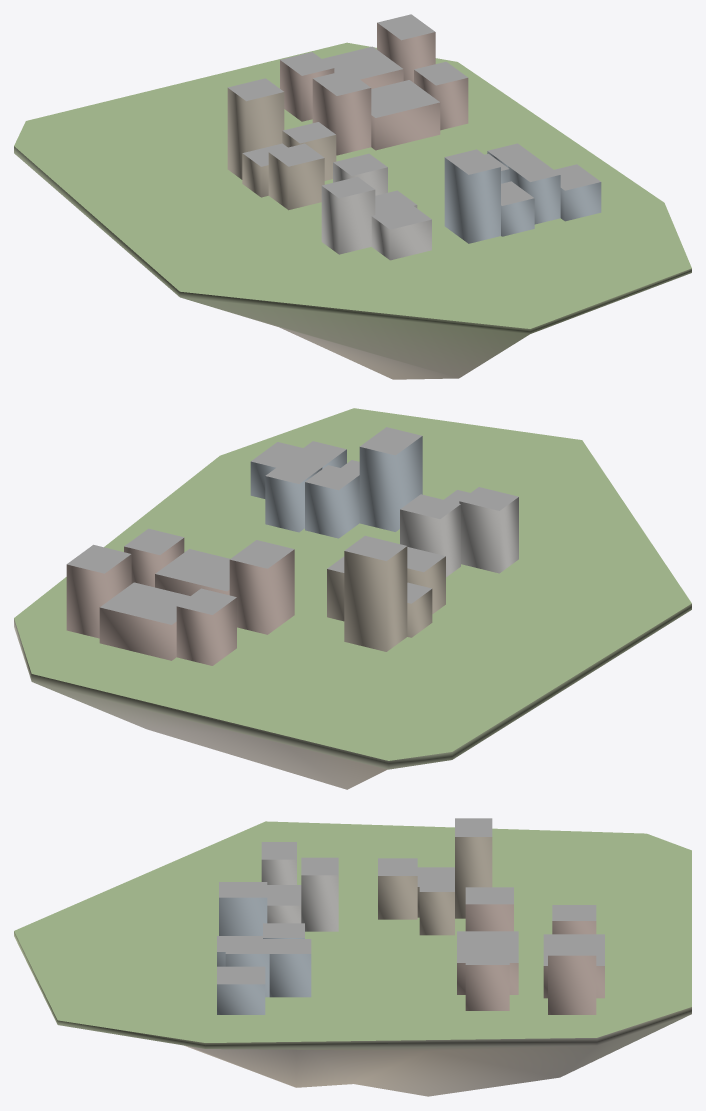
The model's file is SKY-086.lod2.glb.
The picture shows the model from 3 angles, top to bottom: view 1: azimuth 30°, elevation 25°; view 2: azimuth 150°, elevation 25°; view 3: azimuth 270°, elevation 25°; orthographic projection. The views are drawn at different scales.
Parts seen in each view (by area): view 1: deck, buildings, rock; view 2: deck, buildings, rock; view 3: deck, buildings, rock.
Boxes of the visible parts, left/top/right/bottom form: deck: left=14, top=42, right=691, bottom=328; buildings: left=227, top=14, right=601, bottom=260; rock: left=14, top=146, right=691, bottom=379; deck: left=14, top=408, right=691, bottom=760; buildings: left=66, top=427, right=518, bottom=665; rock: left=14, top=603, right=691, bottom=789; deck: left=14, top=821, right=691, bottom=1042; buildings: left=217, top=818, right=604, bottom=1014; rock: left=14, top=931, right=691, bottom=1096.
Bounding box in the file's own units: 119 × 61.59 × 154.
